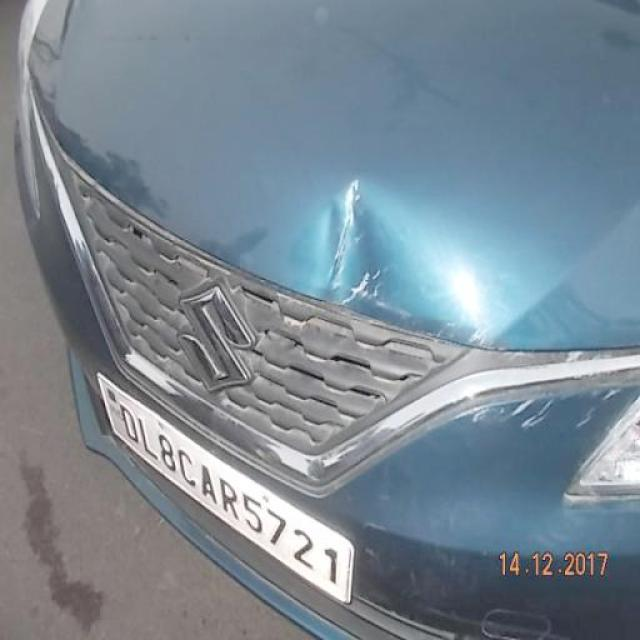car damage: (312, 179, 484, 343)
